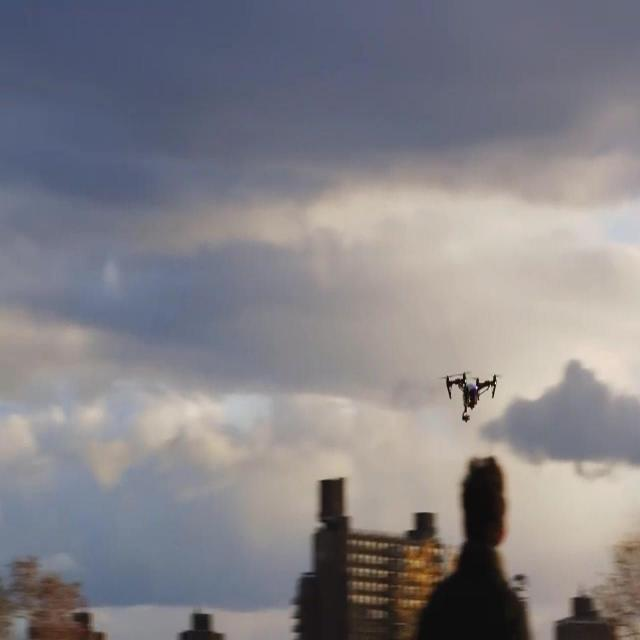UAV: (443, 366, 499, 424)
